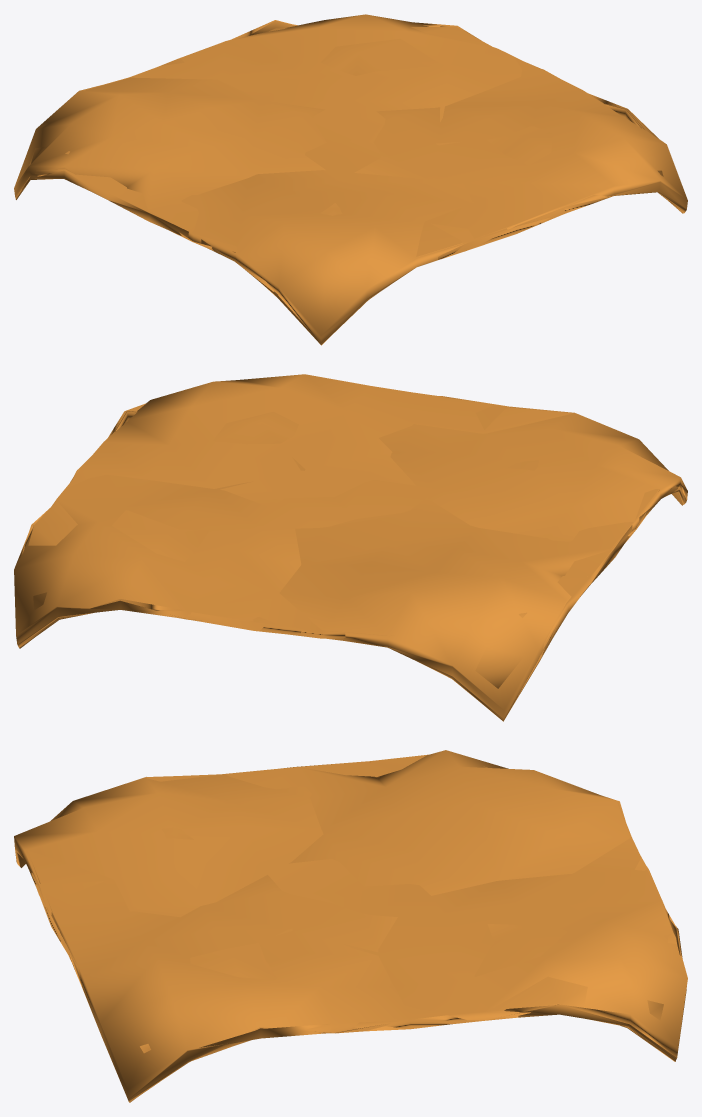
File: cheese.gltf
The picture shows the model from 3 angles, top to bottom: view 1: azimuth 30°, elevation 25°; view 2: azimuth 150°, elevation 25°; view 3: azimuth 270°, elevation 25°; orthographic projection. The views are drawn at different scales.
Visible parts, largest first — view 1: Cube.003; view 2: Cube.003; view 3: Cube.003.
Boxes of the visible parts, bbox=[...] form: Cube.003: bbox=[14, 14, 687, 345]; Cube.003: bbox=[14, 374, 687, 721]; Cube.003: bbox=[14, 750, 687, 1102].
Bounding box in the file's own units: 1.98 × 0.3388 × 1.99.
